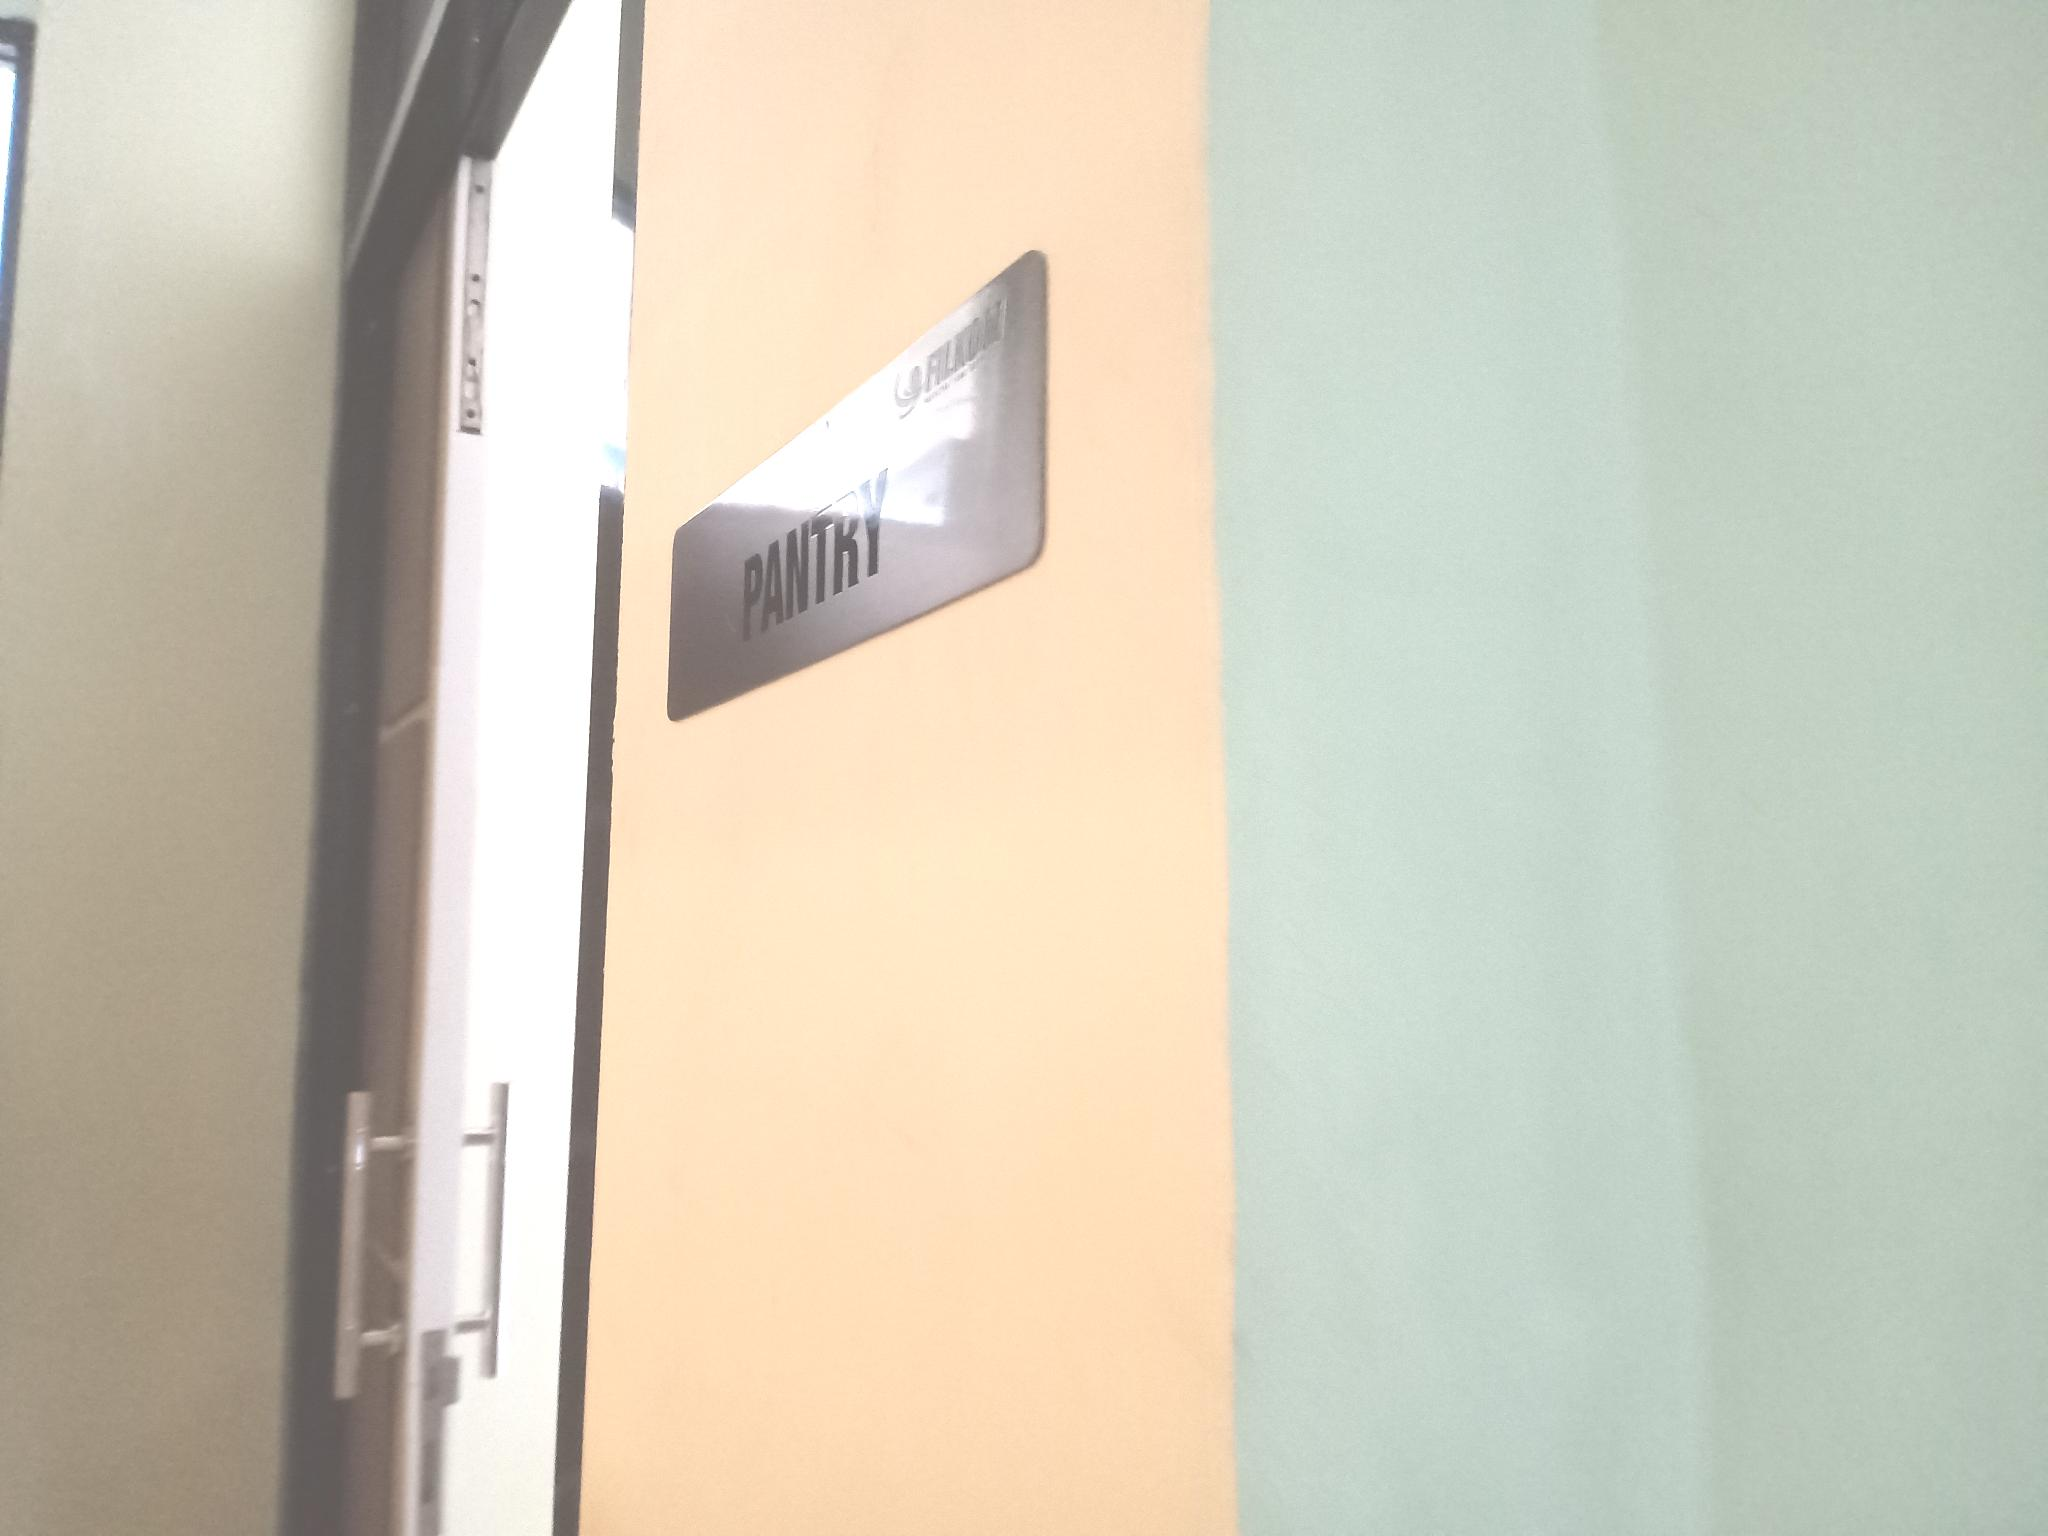plate: (664, 240, 1050, 723)
